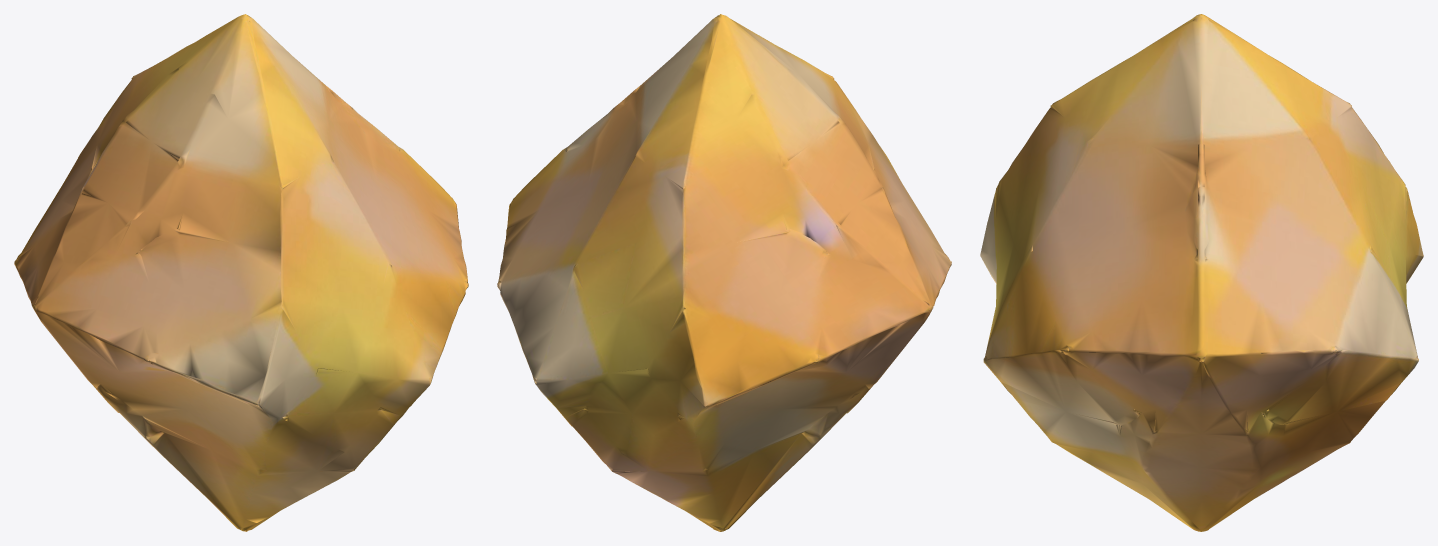
Rendered from lume_shard_crystal.glb.
3 views of the same model, side by side, from view 1: azimuth 30°, elevation 25°; view 2: azimuth 150°, elevation 25°; view 3: azimuth 270°, elevation 25° (orthographic).
Bounding box in the file's own units: 0.8513 × 1 × 0.7769.
Materials: 1 (1 with a texture image).
